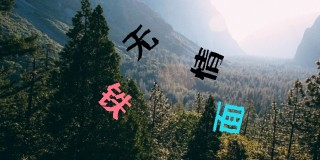情: (190, 47, 224, 80)
无: (121, 24, 161, 61)
铁: (97, 80, 133, 120)
面: (212, 100, 245, 134)
